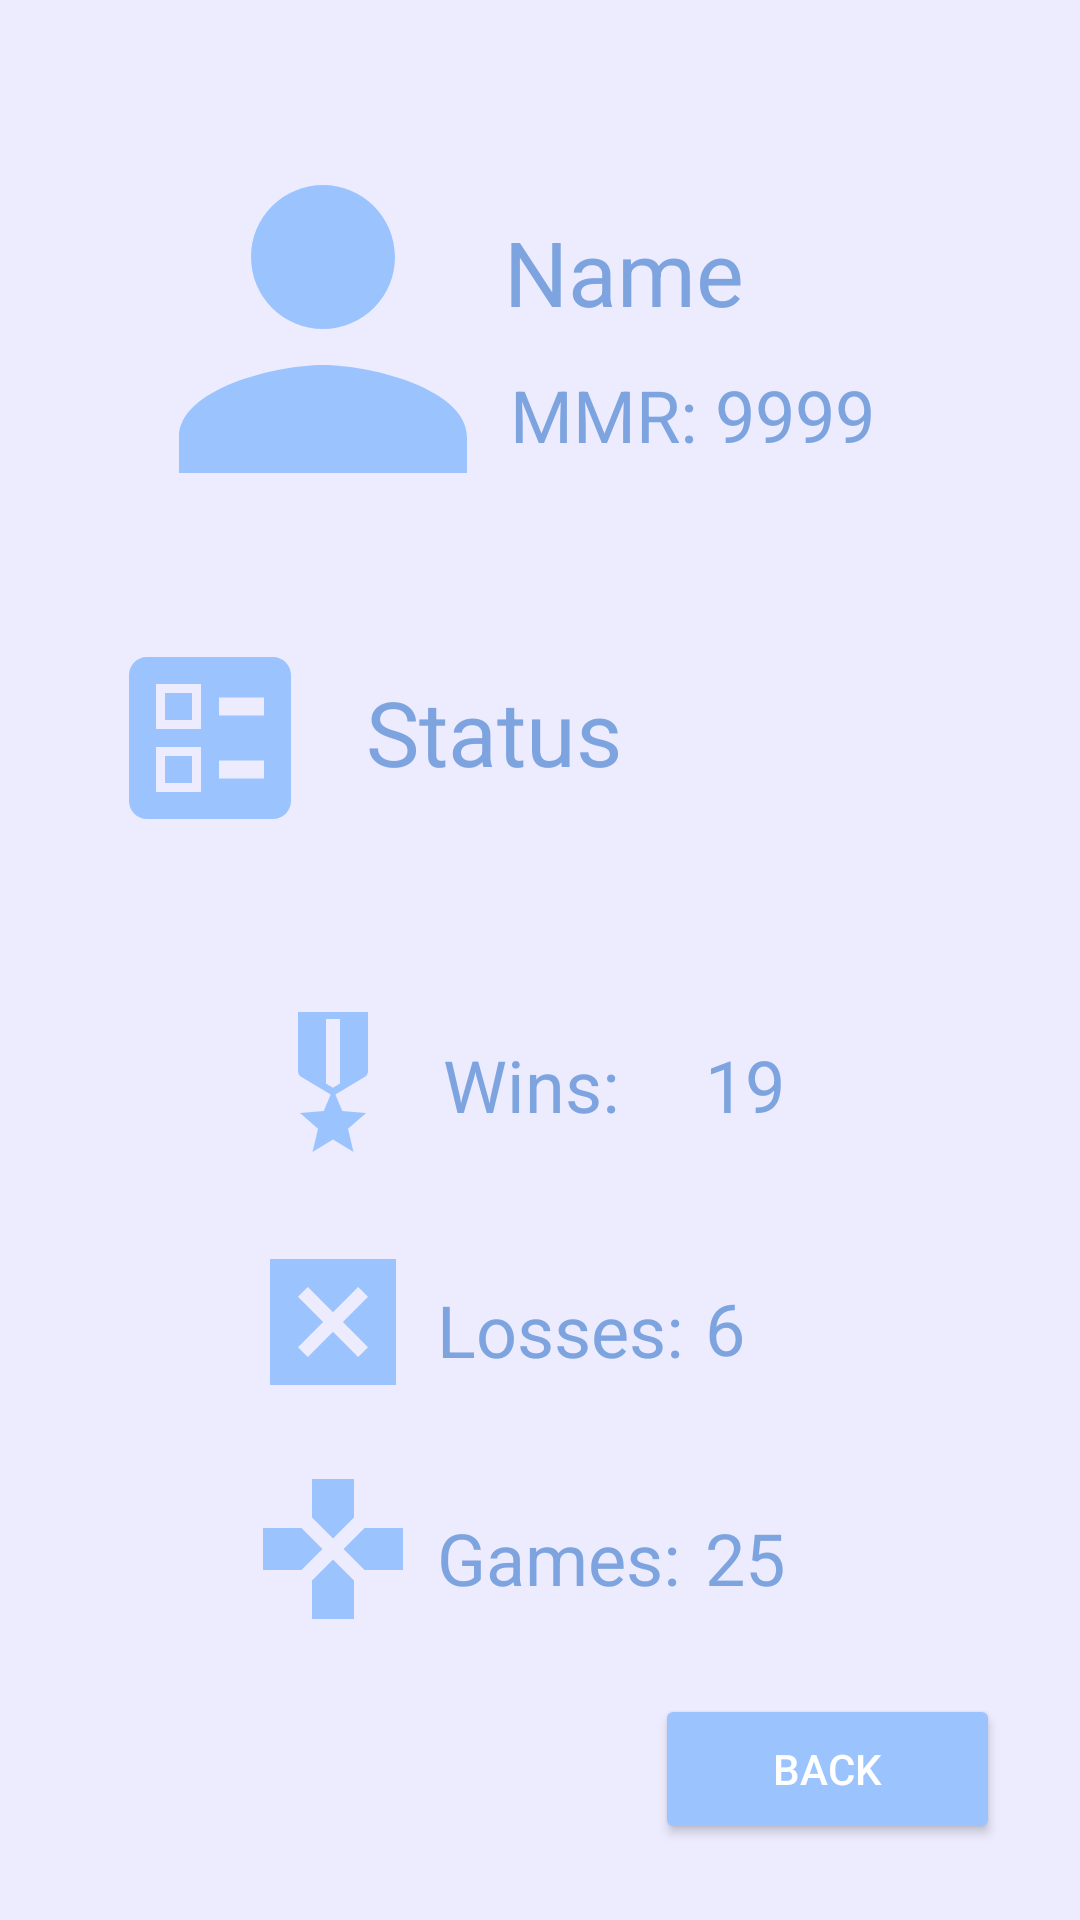

Named icons in this screenshot (1080×1920) and their bounding boxes, rect(x1, y1, x2, y2):
ballot: rect(129, 657, 291, 819)
military tech: rect(298, 1012, 368, 1152)
person: rect(179, 185, 467, 473)
